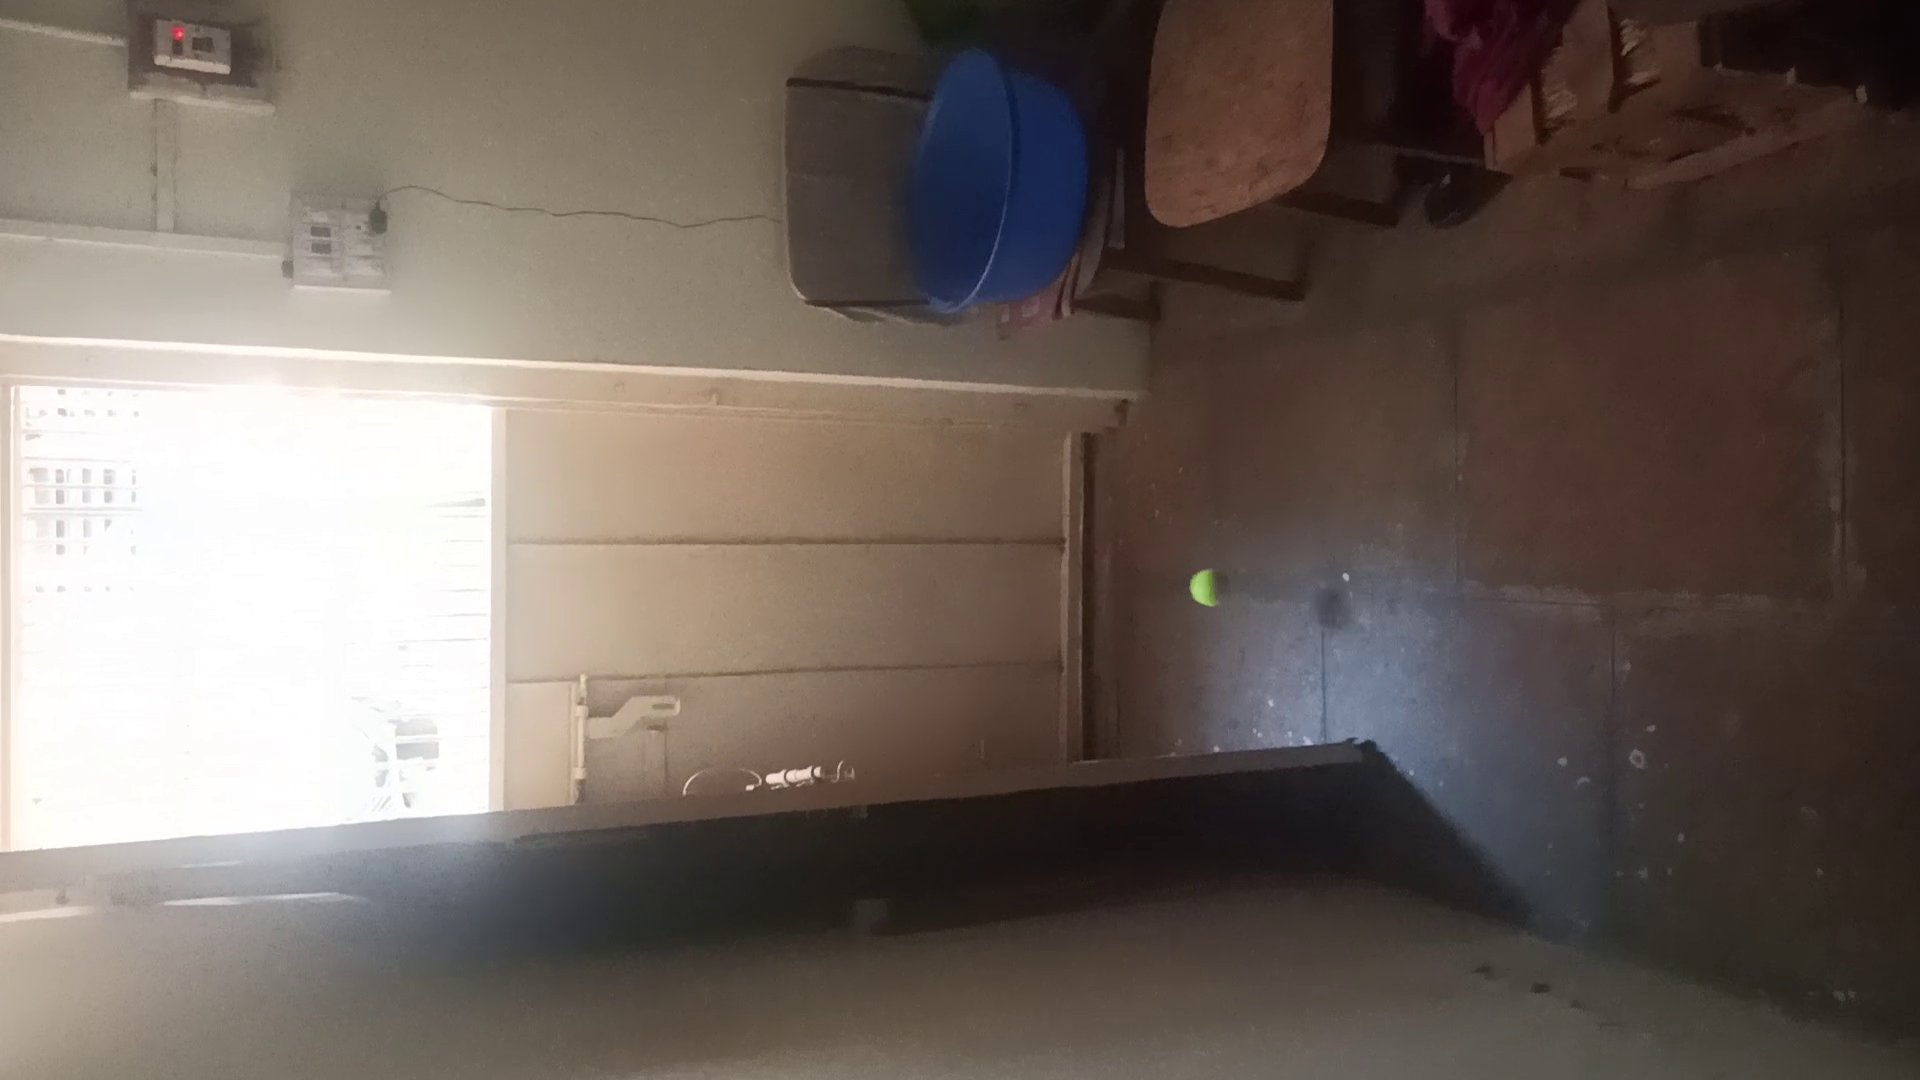Tennis-Ball: (1189, 568, 1230, 607)
